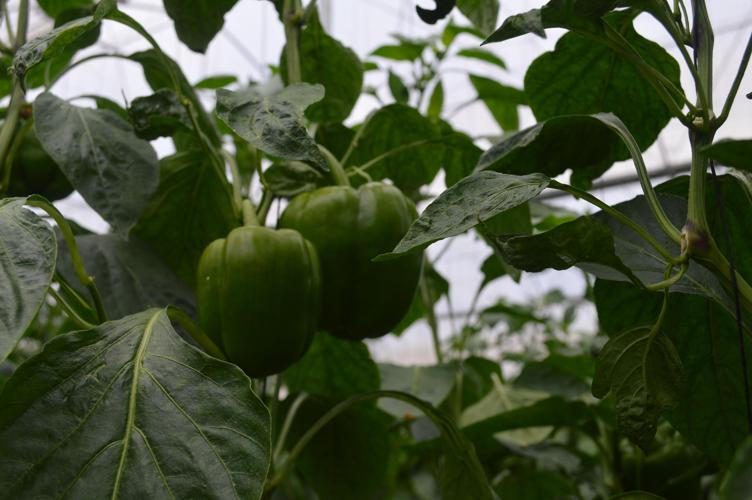BellPepper: (288, 182, 423, 339), (195, 229, 325, 373)
